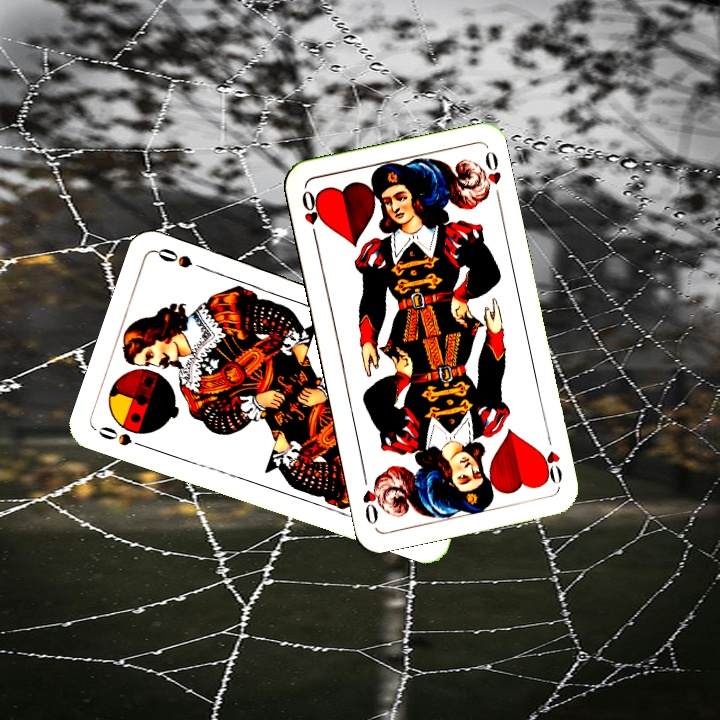HO: (297, 186, 324, 243), (535, 446, 565, 487)
SO: (92, 422, 149, 451)
